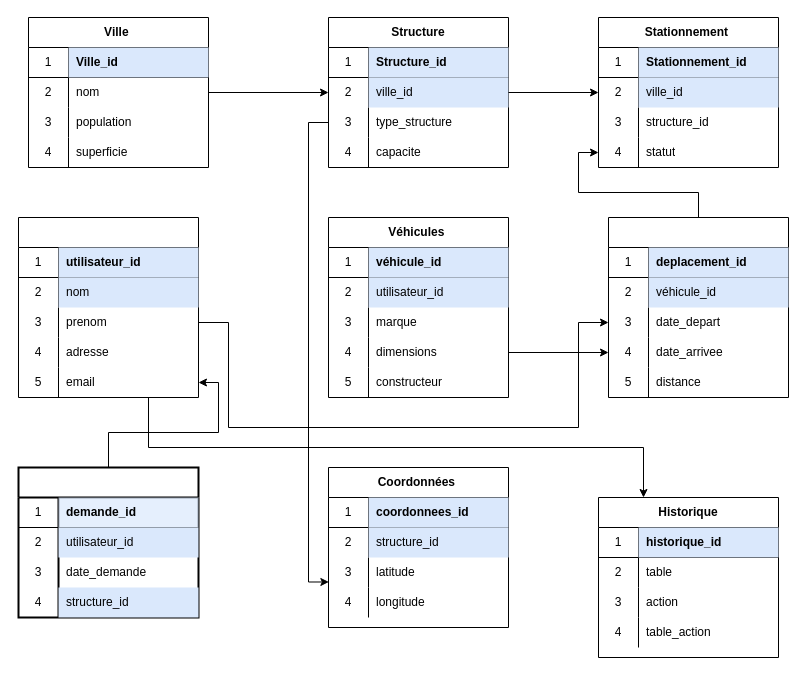
This 806x675 diagram has some shape labels left out. The shapes that lost their labels are listed below. From the top down, each one's box as (x1, y1, x2, y2) in pixels, then its label:
(18, 216, 198, 398): Utilisateurs
(608, 216, 788, 398): Déplacements
(17, 466, 199, 618): Pool de demande
